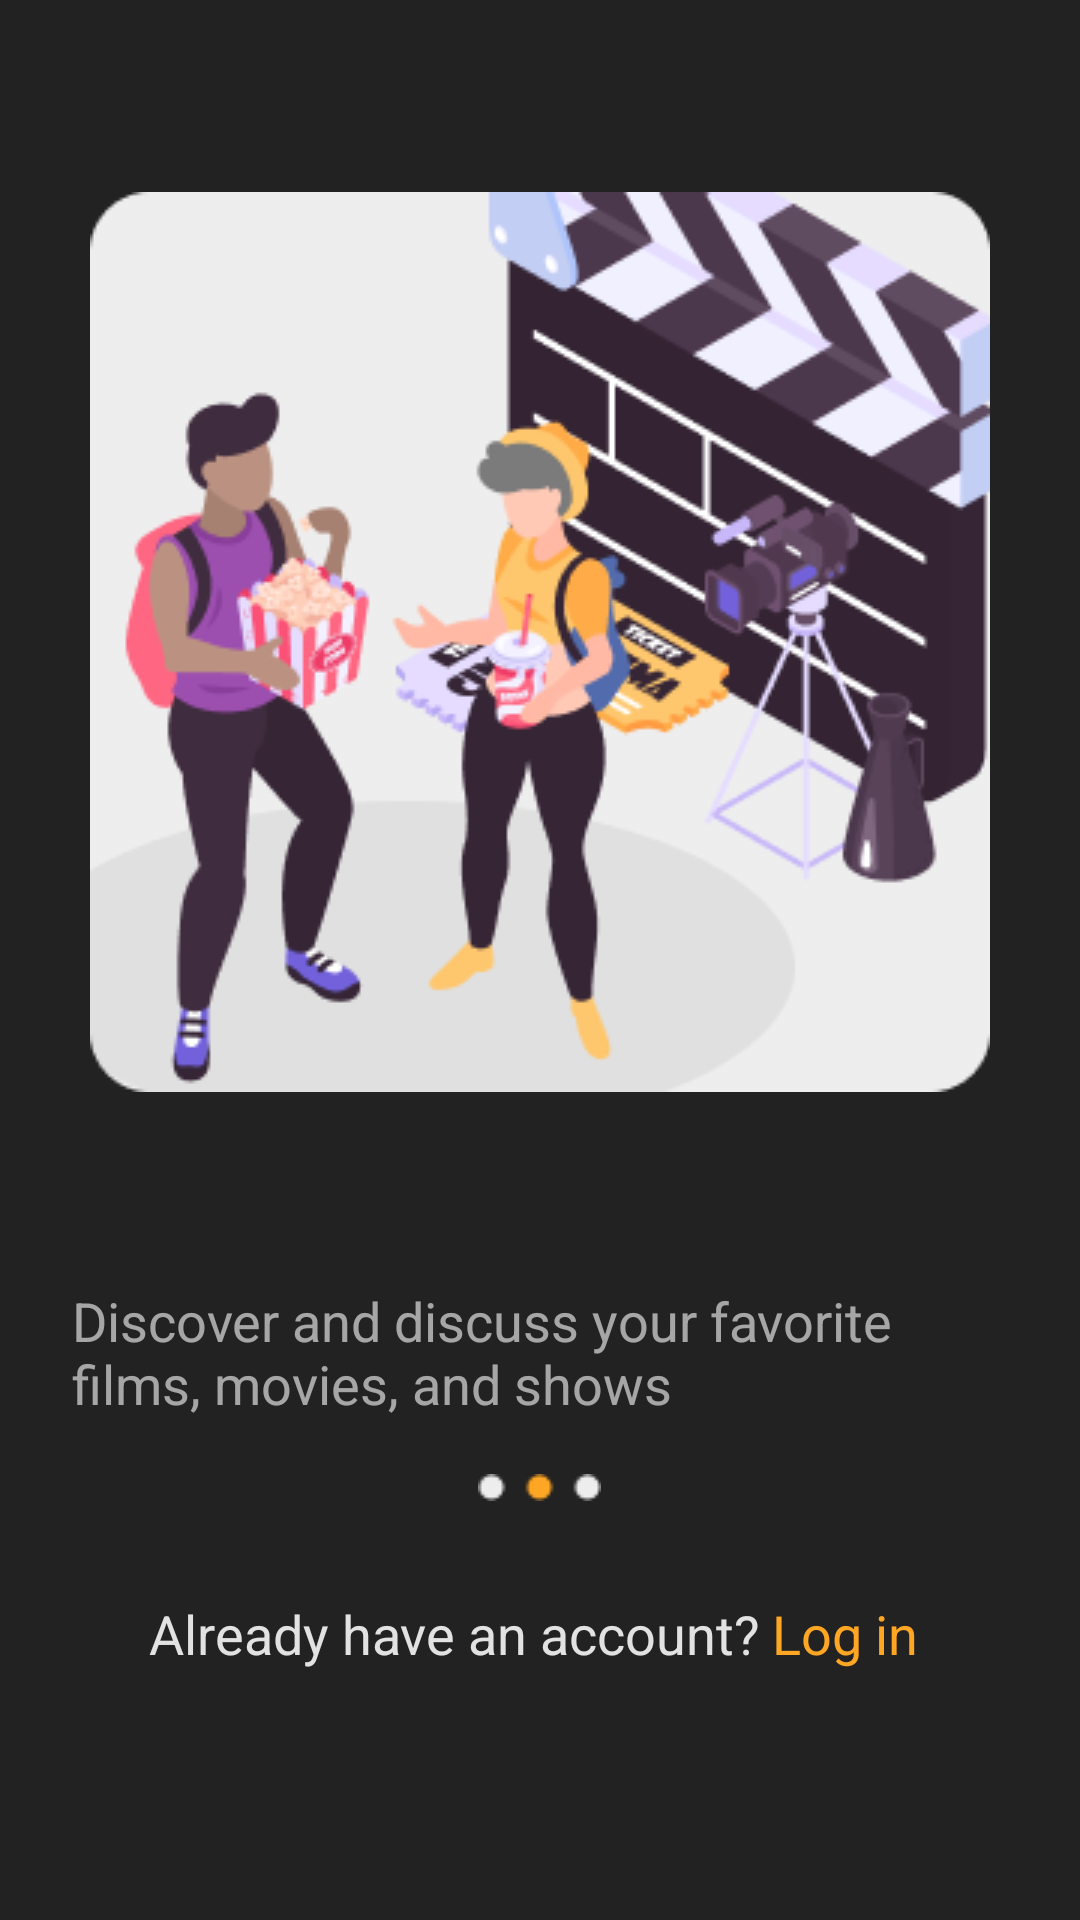

Named icons in this screenshot (1080 × 1920) and their bounding boxes, (x1, y1, x2, y2):
2 of 3: (478, 1474, 601, 1501)
